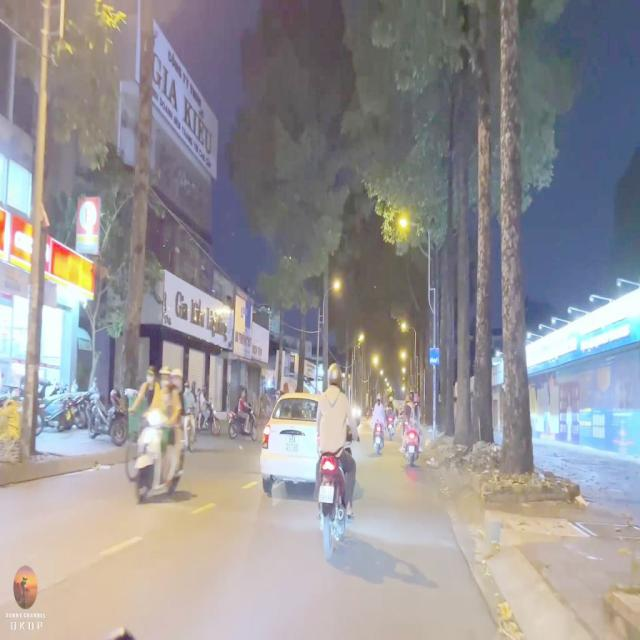khac: (430, 349, 439, 365)
